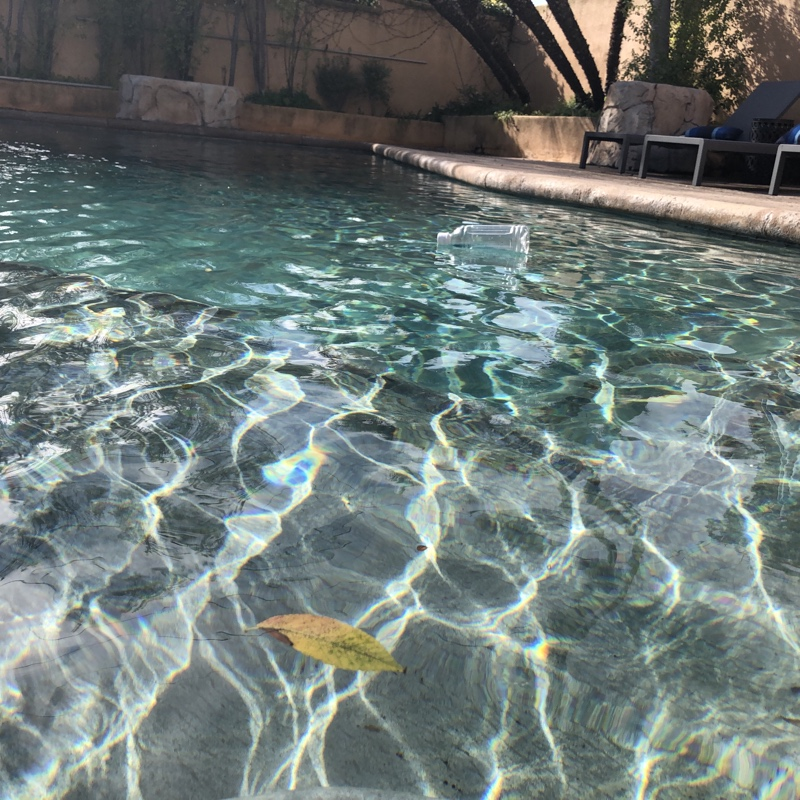Plastic Bottle: (434, 217, 535, 260)
